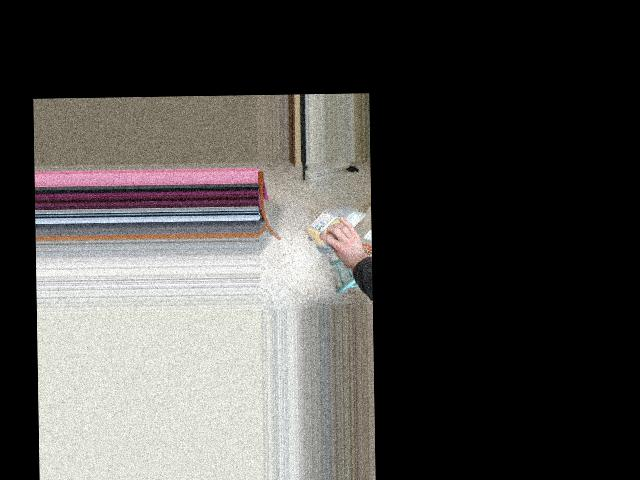cheese: (306, 208, 367, 242)
